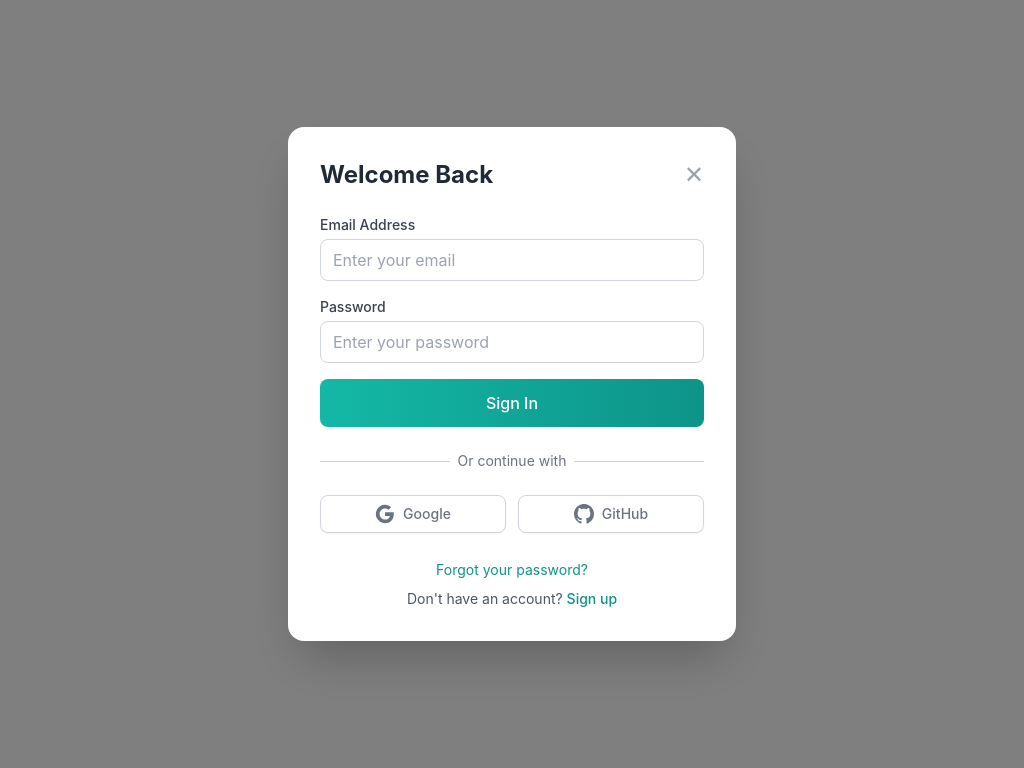
Test: AuthModal Component › displays error messages
The width and height of the screenshot is (1024, 768).
Step 1. Type "test@example.com" into the field labelled "Email Address" → (512, 260), box [320, 239, 704, 281]
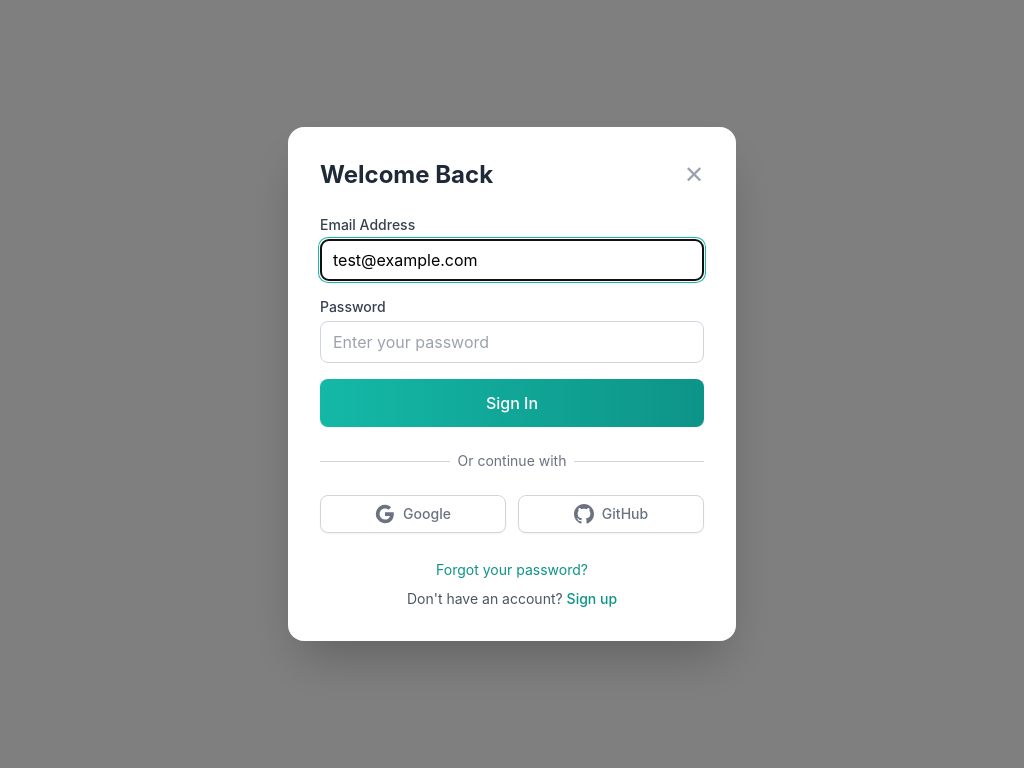
Step 2. Type "wrongpassword" into the password field labelled "Password" → (512, 342), box [320, 321, 704, 363]
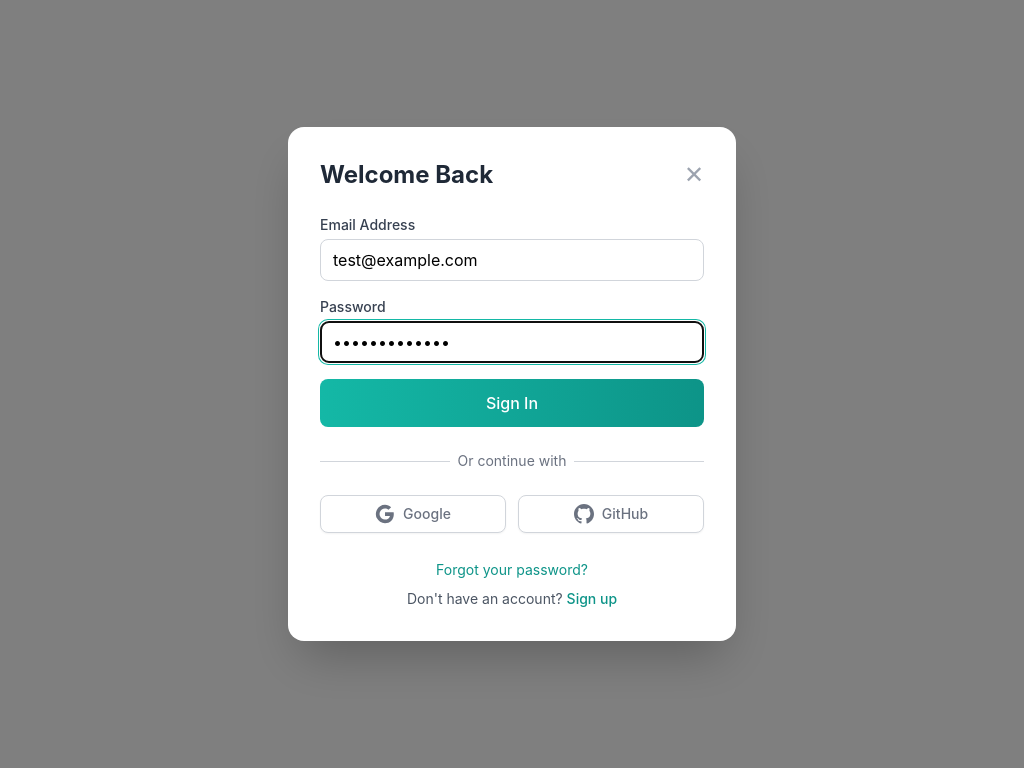
Step 3. Click the button "Sign In" → (512, 403), box [320, 379, 704, 427]
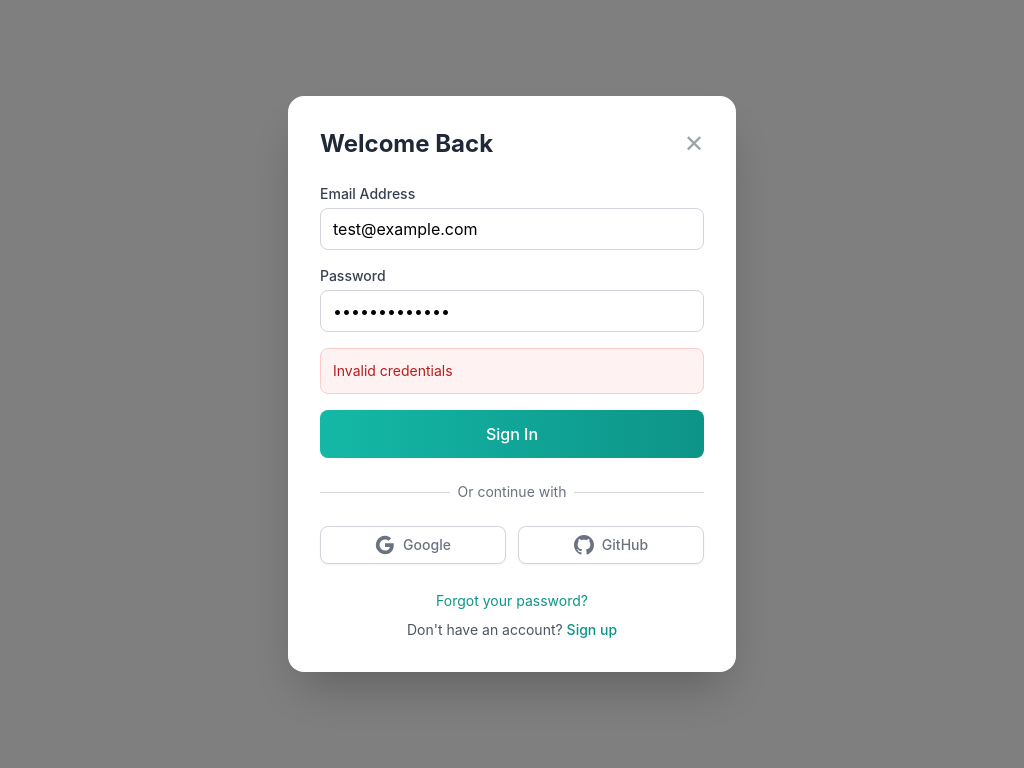
Expected: the text "Invalid credentials" is shown, [320, 348, 704, 394]
